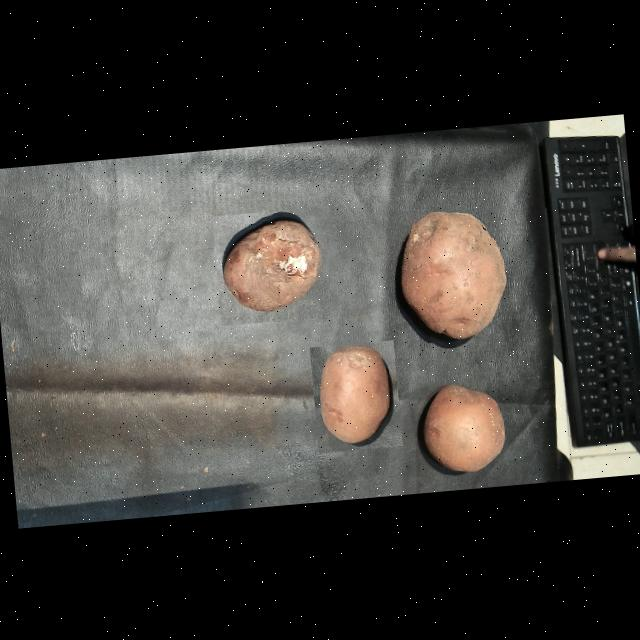Damaged potato: (210, 206, 332, 324)
Diseased-fungal potato: (386, 199, 518, 352), (308, 339, 401, 452), (414, 374, 514, 478)
